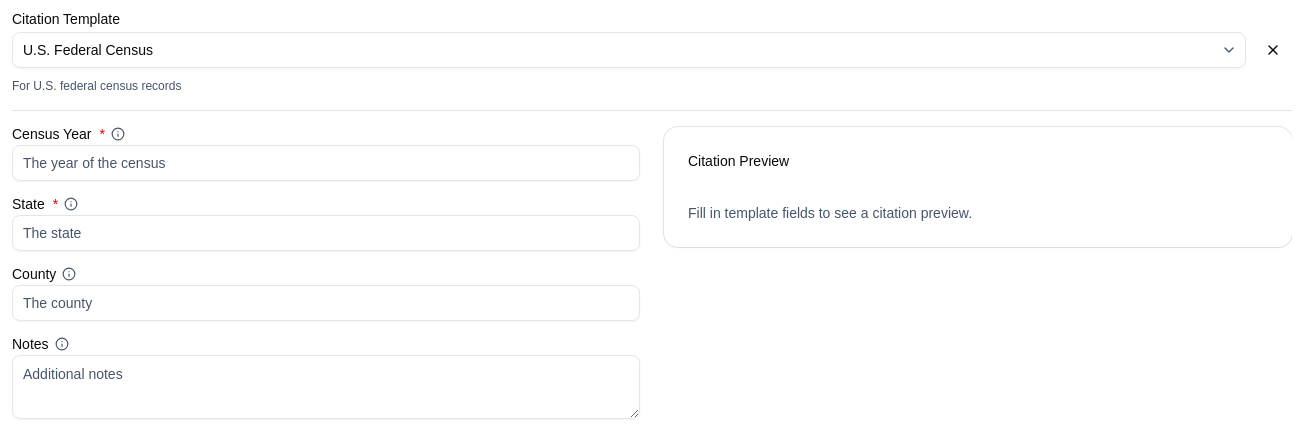
Scenario: CitationTemplateForm › shows preview with full and short citations
Type "1900" into the field with id "template-field-year" at [326, 163], box x1=12 y1=145 x2=640 y2=181
Wait 300 ms
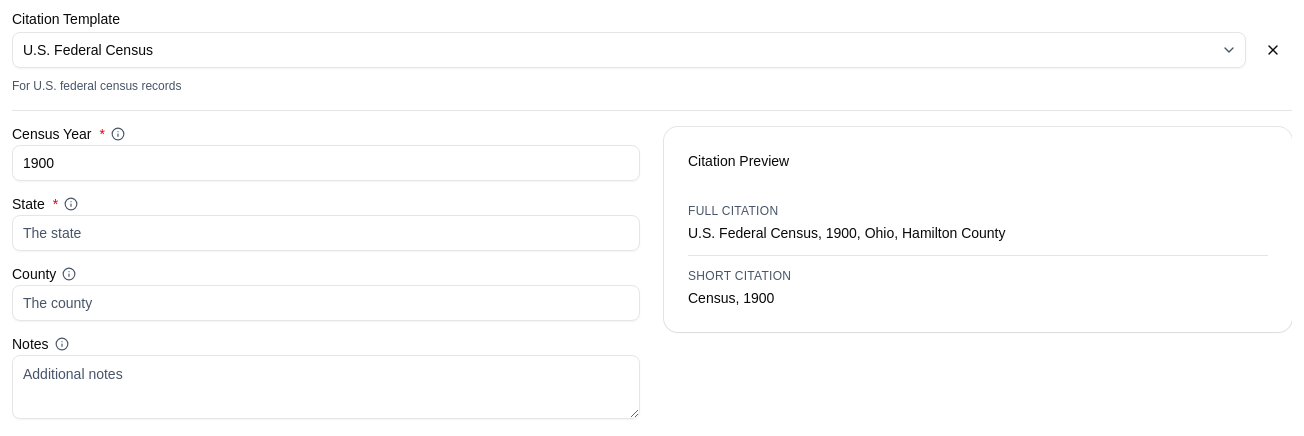
Check: the text "Full Citation" is shown, box x1=688 y1=204 x2=778 y2=218
Check: the text "U.S. Federal Census, 1900, Ohio, Hamilton County" is shown, box x1=688 y1=225 x2=1006 y2=241
Check: the text "Short Citation" is shown, box x1=688 y1=269 x2=791 y2=283
